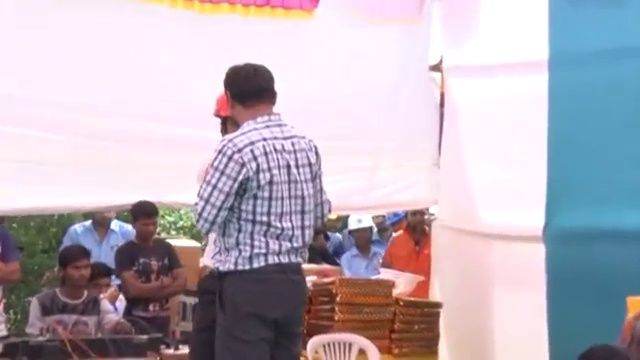helmet_off: (209, 66, 287, 132), (123, 204, 161, 249), (57, 246, 91, 294), (85, 259, 120, 297), (397, 211, 431, 246), (89, 208, 115, 233), (369, 218, 393, 240), (320, 224, 347, 243)
person: (181, 55, 328, 360), (25, 243, 131, 344), (114, 201, 188, 338), (330, 213, 404, 282), (59, 207, 140, 265), (386, 208, 436, 300), (0, 217, 21, 358), (303, 226, 342, 268), (326, 217, 357, 260)
